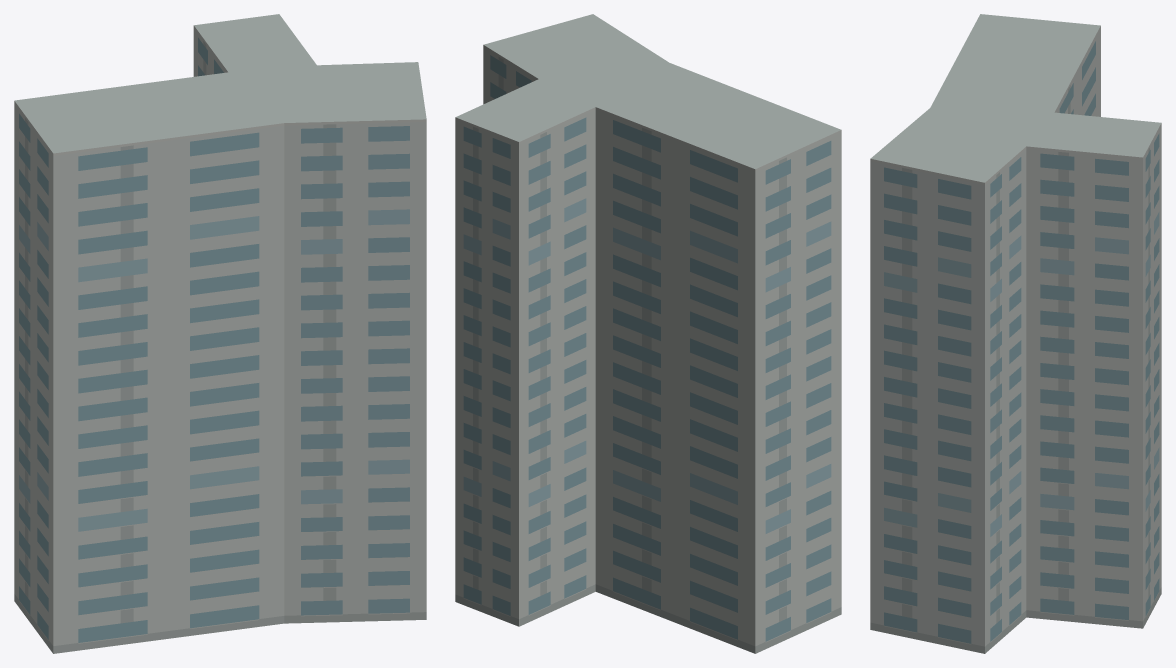
File: residential-6d5f9338-354a-4634-9139-008920276b80.glb
3 views of the same model, side by side, from view 1: azimuth 30°, elevation 25°; view 2: azimuth 150°, elevation 25°; view 3: azimuth 270°, elevation 25° (orthographic). The views are drawn at different scales.
Visible parts, largest first — view 1: residential-6d5f9338-354a-4634-9139-008920276b80.tmp; view 2: residential-6d5f9338-354a-4634-9139-008920276b80.tmp; view 3: residential-6d5f9338-354a-4634-9139-008920276b80.tmp.
Boxes of the visible parts, x1,y1,x2,y2 form: residential-6d5f9338-354a-4634-9139-008920276b80.tmp: [14, 14, 426, 653]; residential-6d5f9338-354a-4634-9139-008920276b80.tmp: [455, 14, 841, 653]; residential-6d5f9338-354a-4634-9139-008920276b80.tmp: [870, 14, 1161, 653].
Size of the model in its own units: 37.66 by 49 by 27.46.
